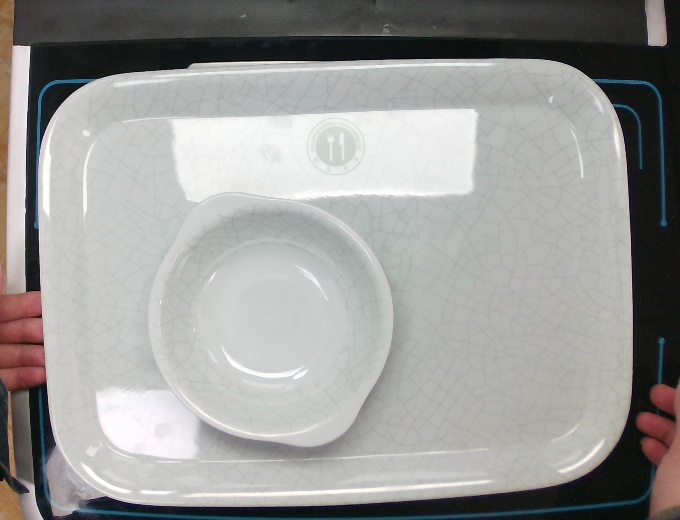JYsf-Shuang_Er_Wan: (144, 186, 399, 454)
